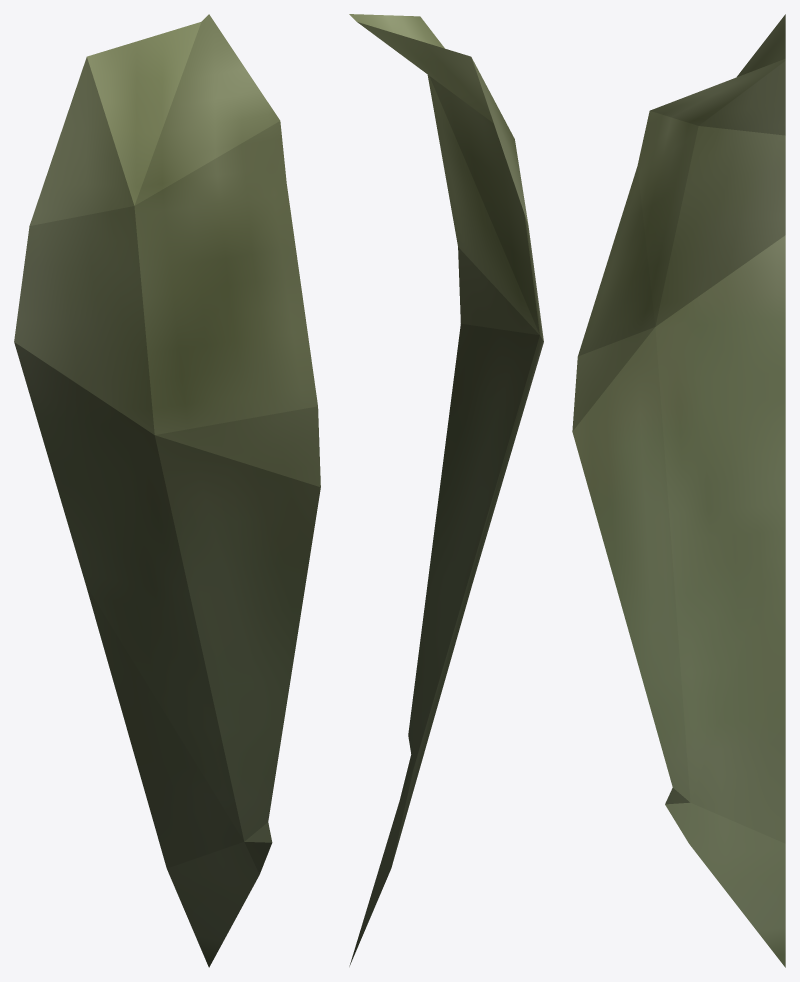
3 renders of one model, left to right at view 1: azimuth 30°, elevation 25°; view 2: azimuth 150°, elevation 25°; view 3: azimuth 270°, elevation 25°, orthographic. The views are drawn at different scales.
Bounding box in the file's own units: 0.0897 × 0.4196 × 0.0891.
1 material, 1 textured.
